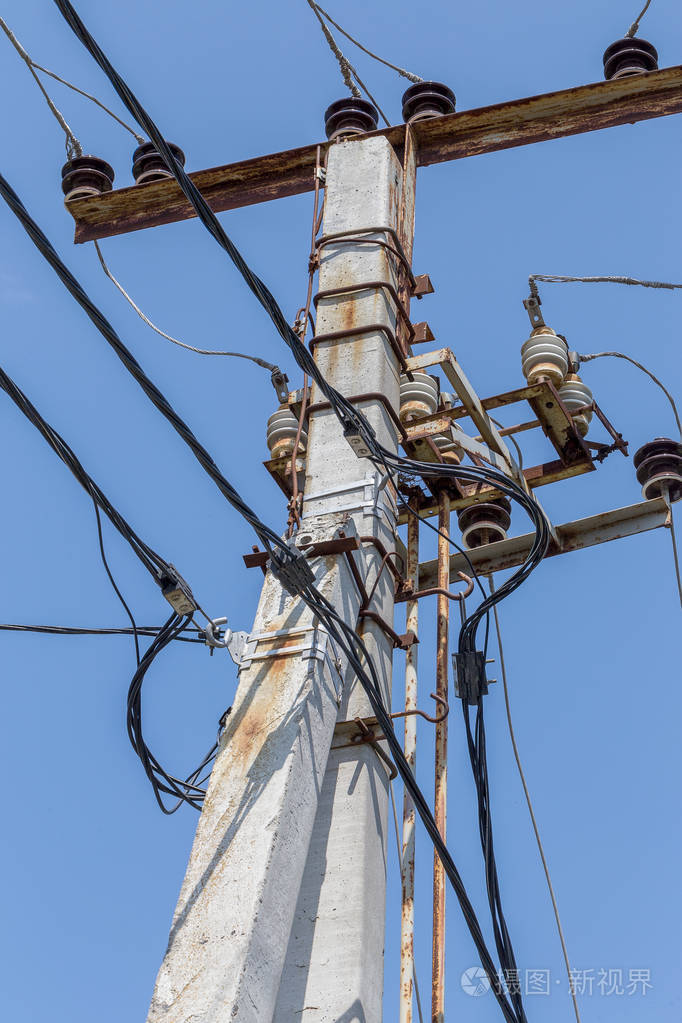insulator: (624, 438, 682, 499), (452, 497, 517, 543), (56, 154, 115, 198), (598, 38, 660, 78), (318, 97, 380, 136), (127, 139, 189, 174), (396, 81, 456, 114)
